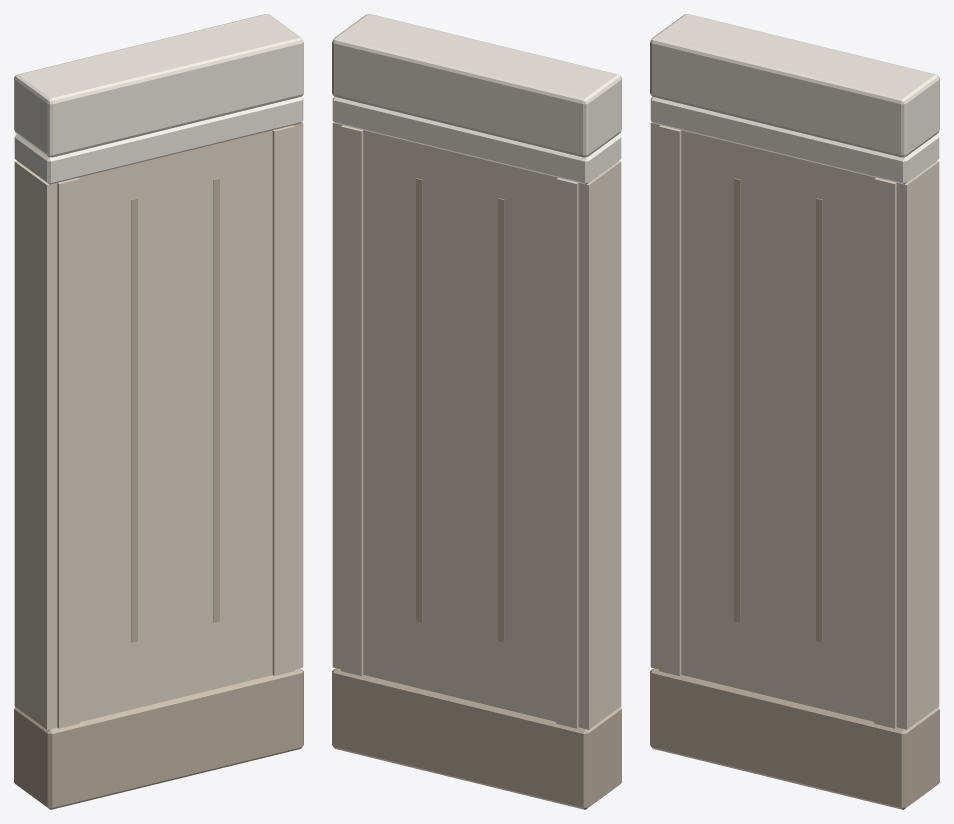
Rendered from parede_igreja.glb.
The picture shows the model from 3 angles, left to right: view 1: azimuth 30°, elevation 25°; view 2: azimuth 150°, elevation 25°; view 3: azimuth 330°, elevation 25°; orthographic projection.
Parts seen in each view (by area): view 1: parede_igreja; view 2: parede_igreja; view 3: parede_igreja.
Part boxes in pixels (x1,y1,x2,y2): parede_igreja: [14, 14, 303, 809]; parede_igreja: [332, 14, 621, 809]; parede_igreja: [650, 14, 939, 809].
Size of the model in its own units: 1 by 2.65 by 0.25.
